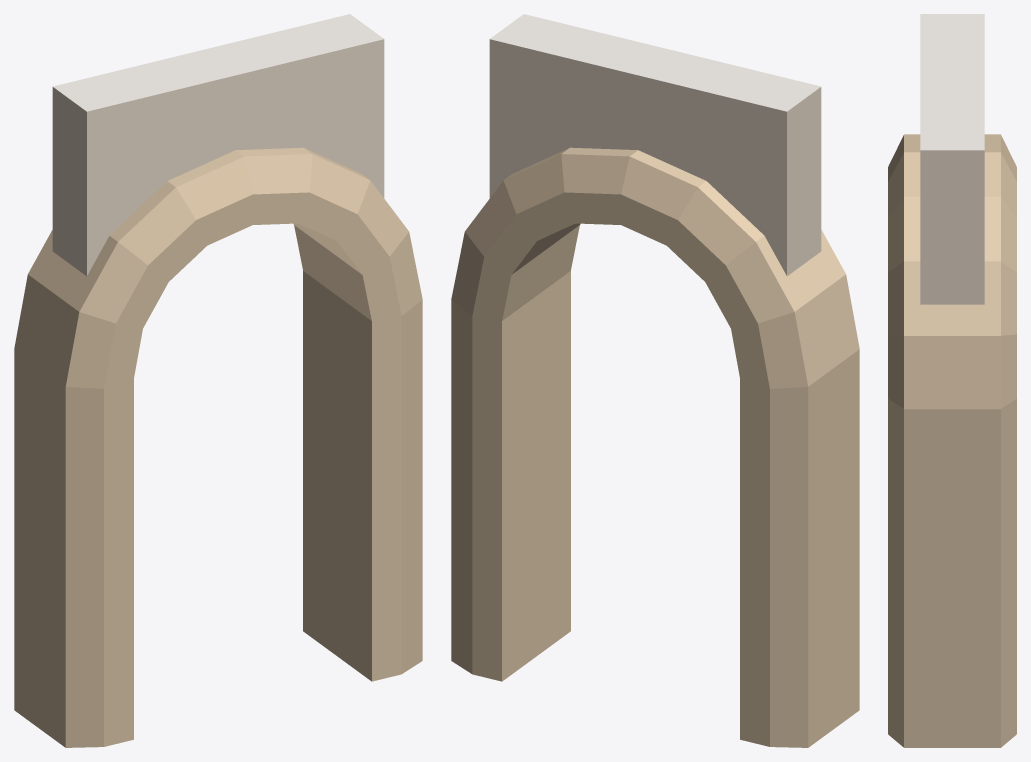
Rendered from Wall_Straight_Doorway.glb.
The picture shows the model from 3 angles, left to right: view 1: azimuth 30°, elevation 25°; view 2: azimuth 150°, elevation 25°; view 3: azimuth 270°, elevation 25°; orthographic projection. The views are drawn at different scales.
Parts seen in each view (by area): view 1: Wall_Straight_Doorway; view 2: Wall_Straight_Doorway; view 3: Wall_Straight_Doorway.
Boxes of the visible parts, x1,y1,x2,y2 form: Wall_Straight_Doorway: [14, 14, 422, 747]; Wall_Straight_Doorway: [451, 14, 859, 747]; Wall_Straight_Doorway: [888, 14, 1016, 747].
Size of the model in its own units: 1.2 by 2 by 0.4.
